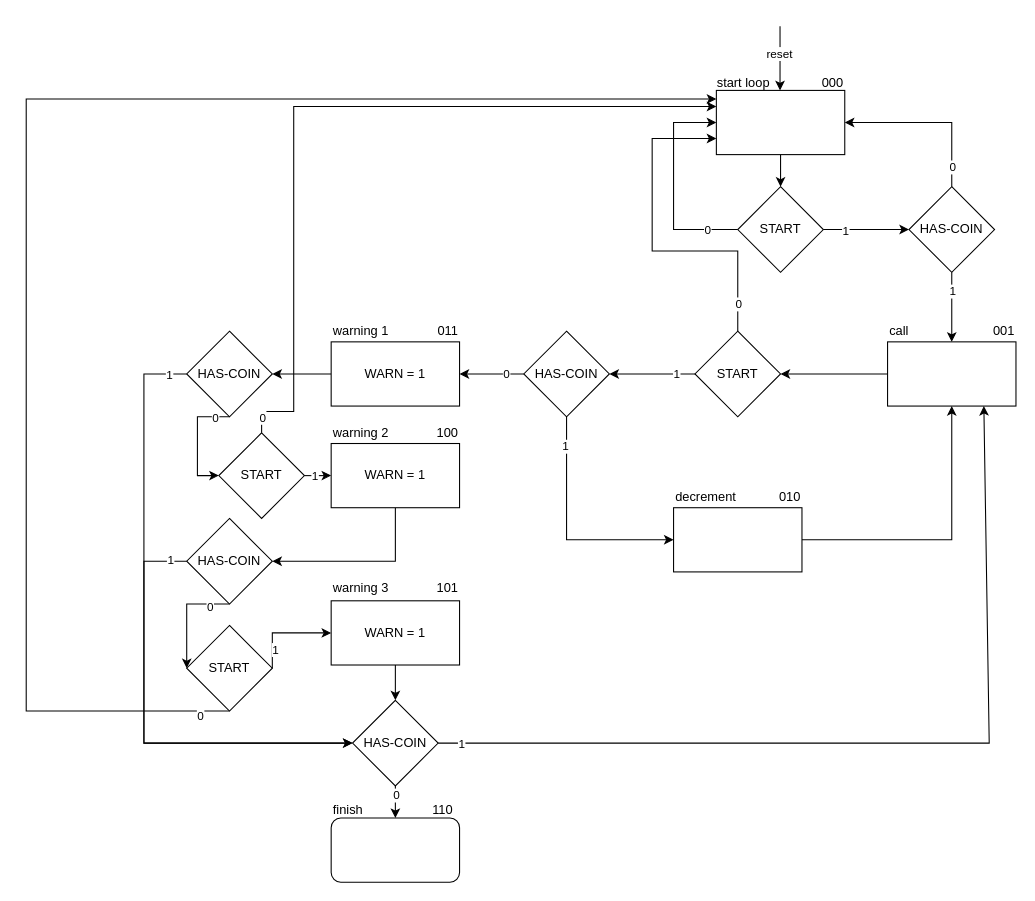
Image size: 1035x901. Some labels were removed from this diagram. Here are the shapes that lost their labels. From the top down, the centre of each, then its label:
At point (780, 122): "CALL = 0 WARN = 0".
At point (951, 373): "DOWN = 0 CALL = 1 WARN = 0".
At point (737, 539): "DOWN = 1".
At point (395, 849): "WARN = 1 CALL = 0".
